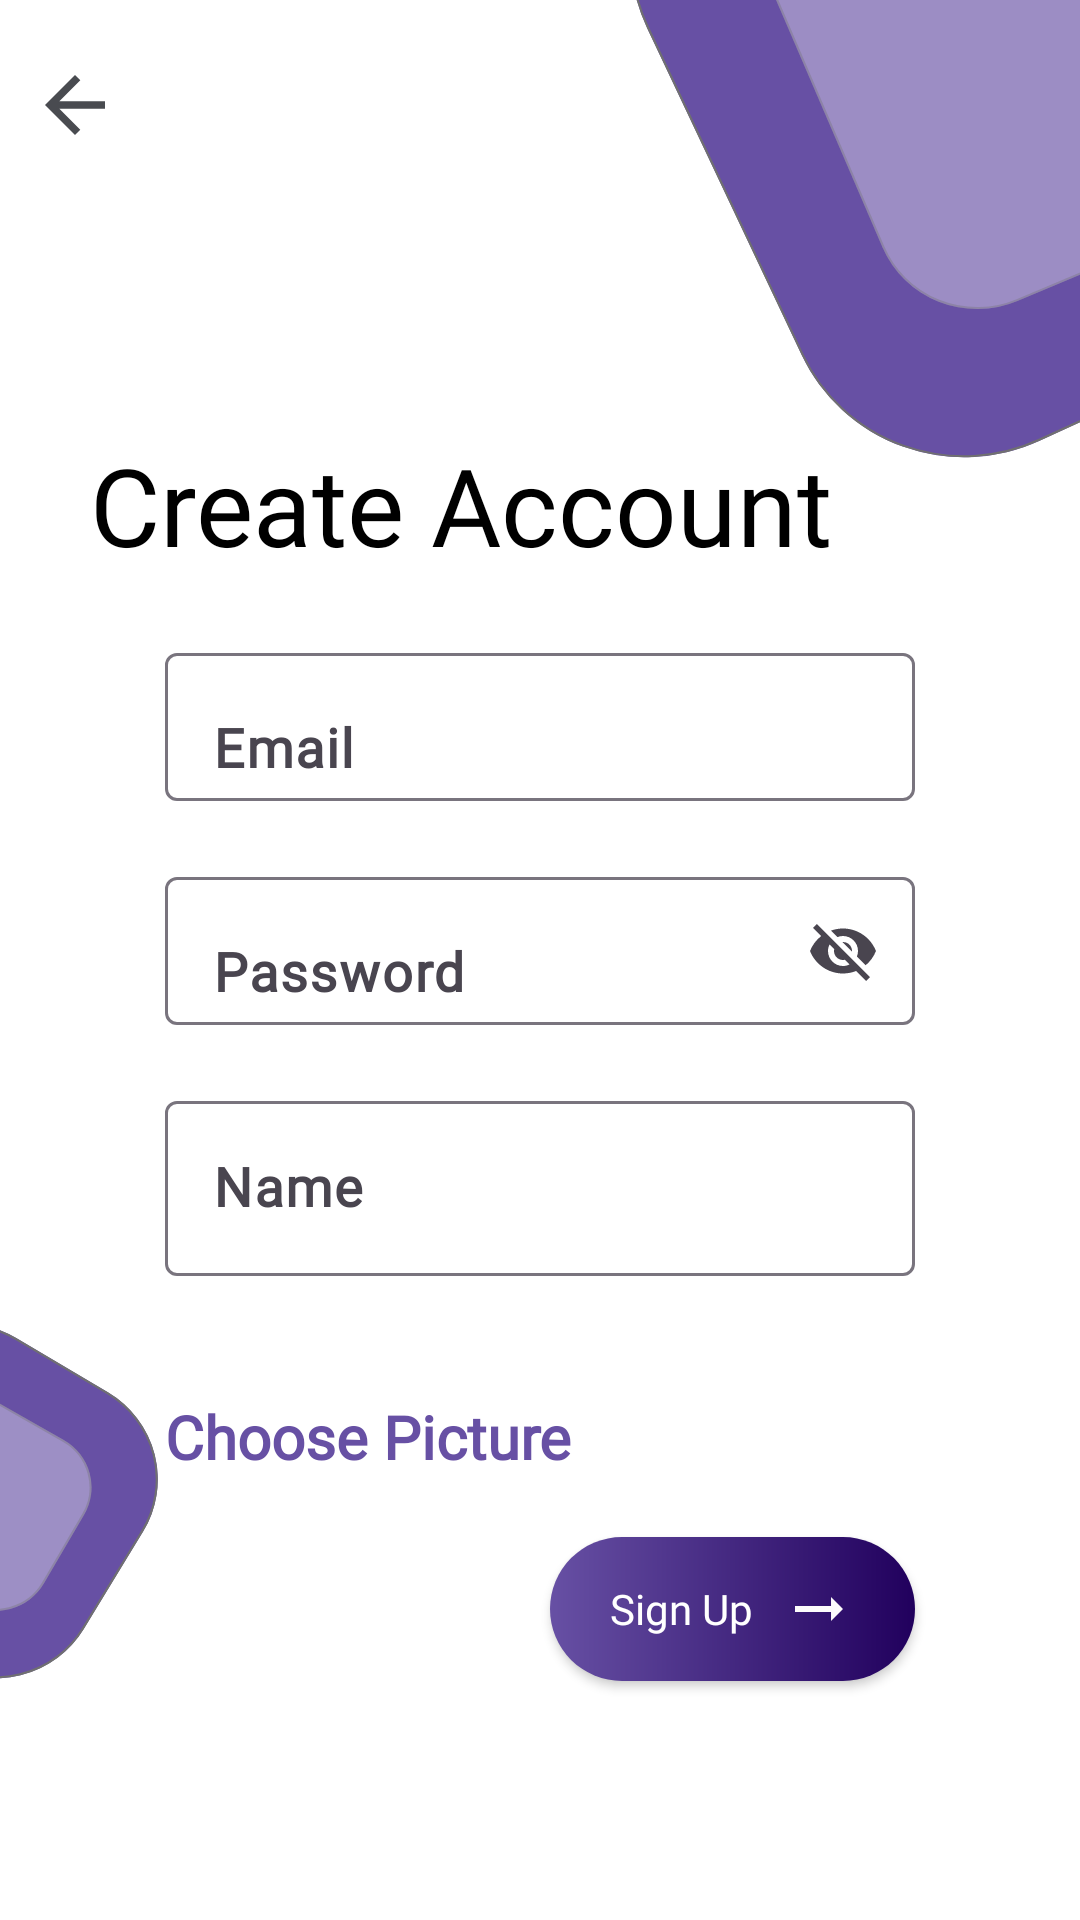

Named icons in this screenshot (1080x1920) and their centers, [x,y]:
arrow back: [75,105]
